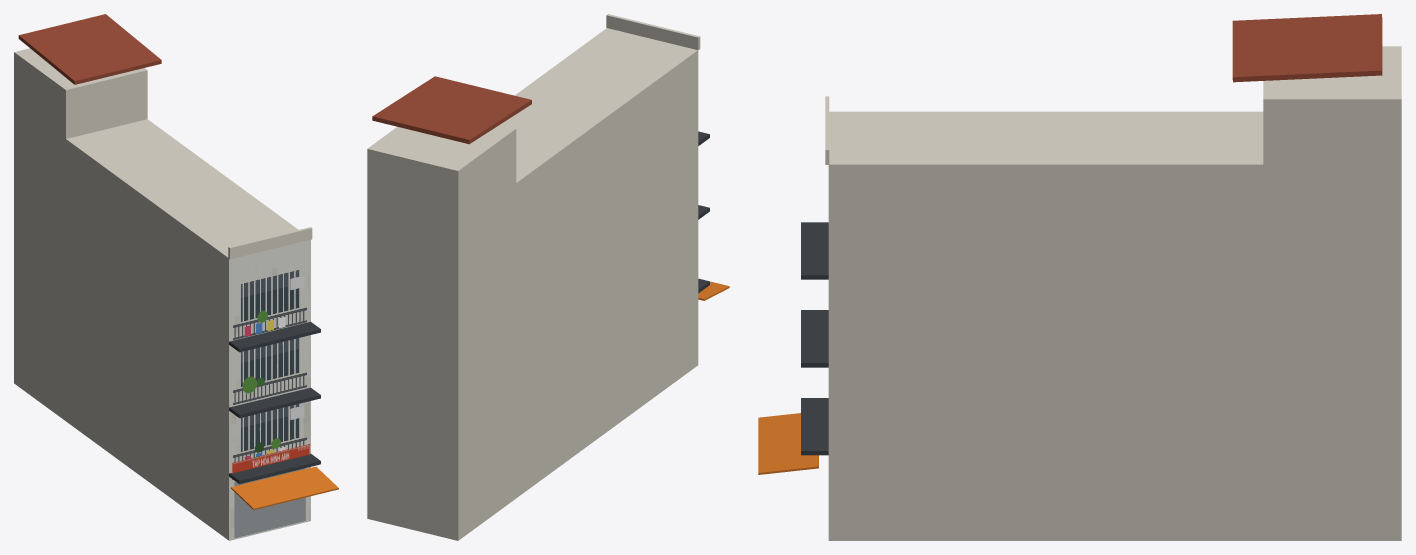
The model's file is tube_house_g.glb.
The picture shows the model from 3 angles, left to right: view 1: azimuth 30°, elevation 25°; view 2: azimuth 150°, elevation 25°; view 3: azimuth 270°, elevation 25°; orthographic projection. The views are drawn at different scales.
Parts seen in each view (by area): view 1: tubehouse; view 2: tubehouse; view 3: tubehouse.
Part boxes in pixels (x1,y1,x2,y2): tubehouse: (14,14,338,540); tubehouse: (367,14,729,540); tubehouse: (758,14,1401,540).
Size of the model in its own units: 4.83 by 18.82 by 23.25.
Materials: 6 (2 with a texture image).
